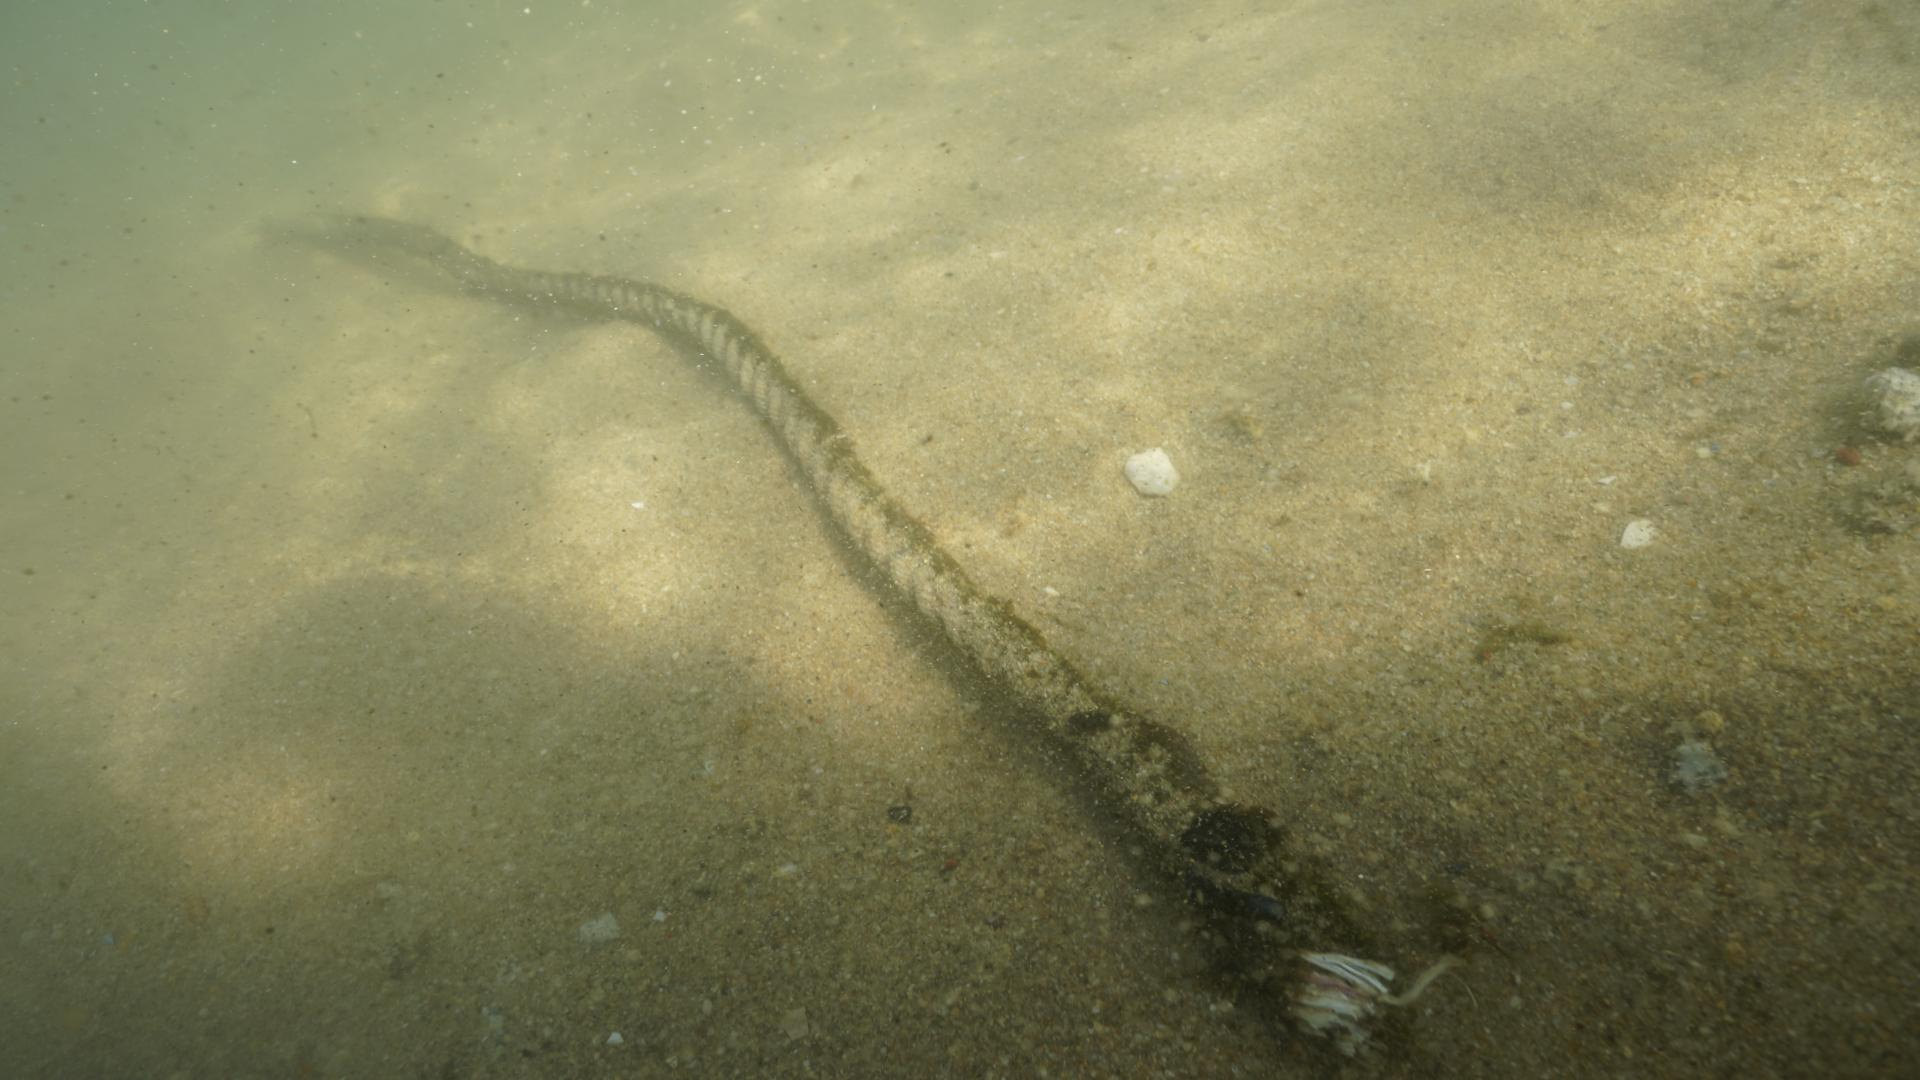rope: (262, 208, 1229, 855)
